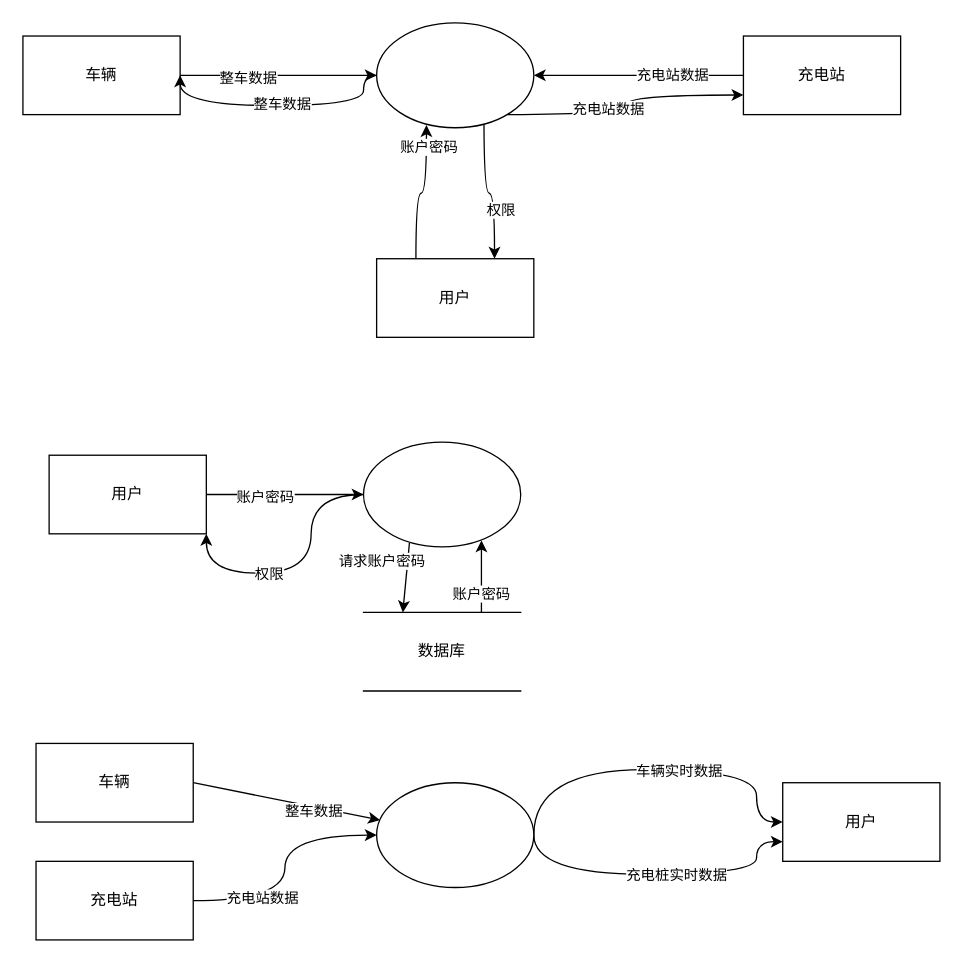
This 963x963 diagram has some shape labels left out. The shapes that lost their labels are listed below. From the top down, each one's box as (x1, y1, x2, y2) in pixels, then its label:
(375, 22, 534, 128): FleetLink平台
(362, 441, 521, 547): 登录界面
(375, 781, 534, 888): 实时数据界面
